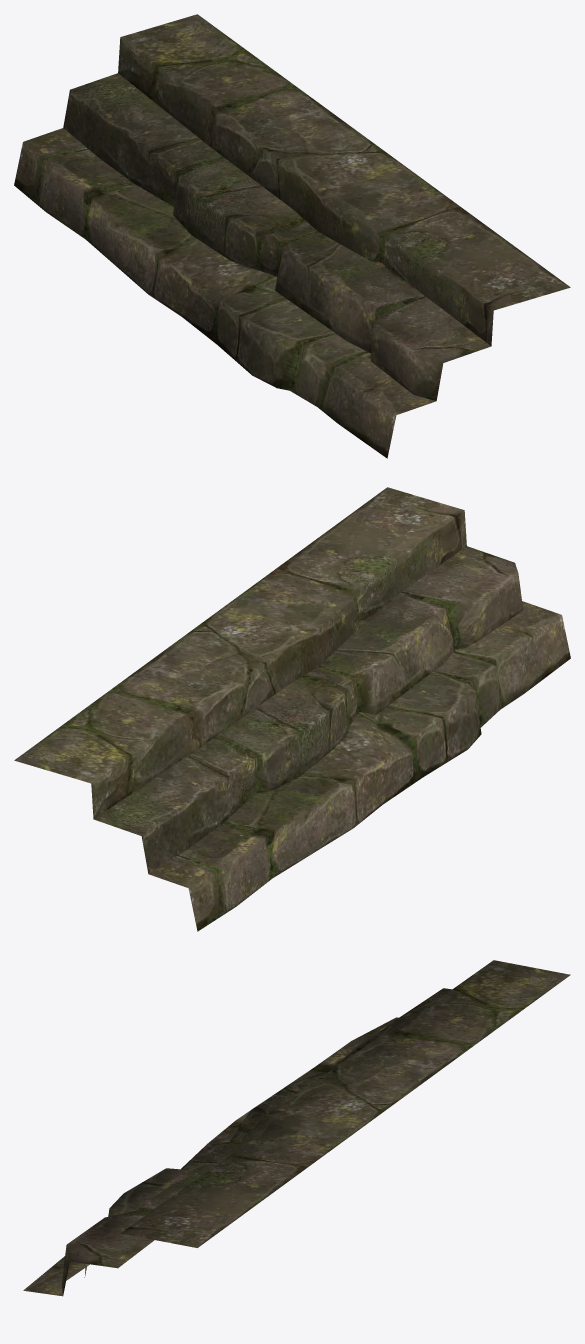
The model's file is Plaza_Stair_03-transformed.glb.
3 views of the same model, one above another, from view 1: azimuth 30°, elevation 25°; view 2: azimuth 150°, elevation 25°; view 3: azimuth 330°, elevation 25° (orthographic).
Visible parts, largest first — view 1: default; view 2: default; view 3: default.
Boxes of the visible parts, box(x1,y1,x2,y2) form: default: box(14, 14, 570, 458); default: box(14, 487, 570, 931); default: box(23, 960, 570, 1296).
Size of the model in its own units: 1.85 by 1.12 by 6.
1 material, 1 textured.
